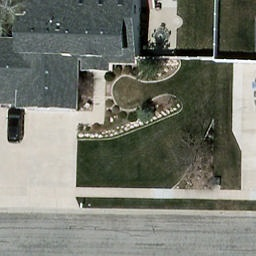car: (6, 108, 25, 141)
